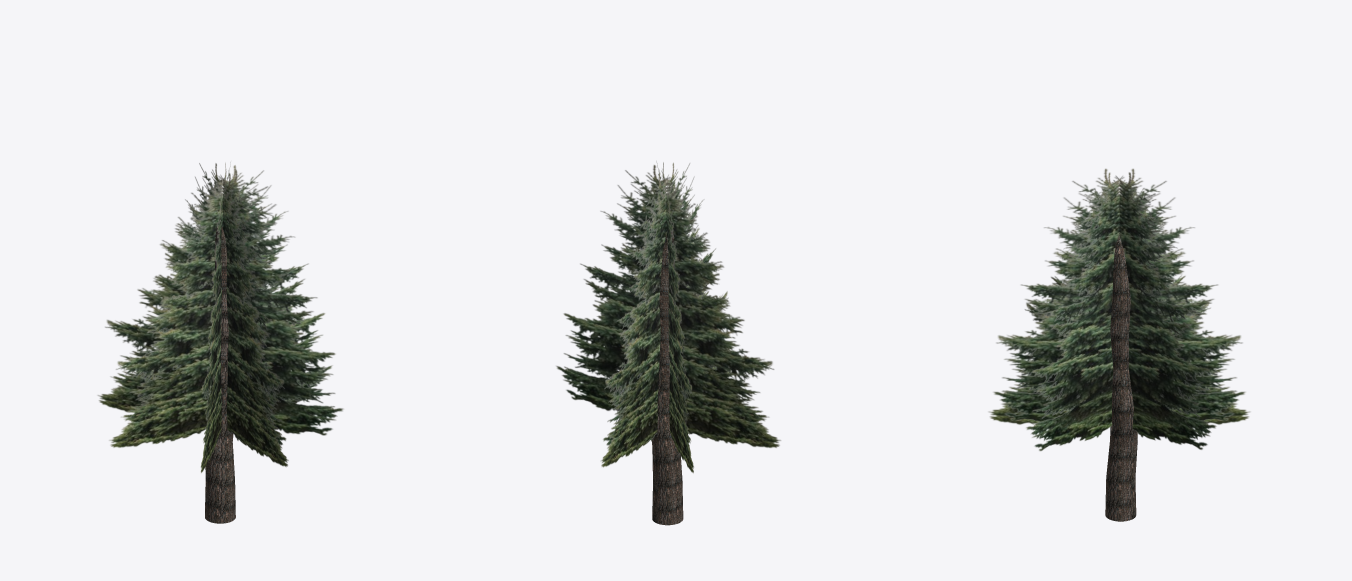
The model's file is pine tree.glb.
3 renders of one model, left to right at view 1: azimuth 30°, elevation 25°; view 2: azimuth 150°, elevation 25°; view 3: azimuth 270°, elevation 25°, orthographic.
Parts seen in each view (by area): view 1: pine tree1284922901-612x612-removebg-preview.002, pine tree1284922901-612x612-removebg-preview.003, pine tree1284922901-612x612-removebg-preview, Circle, pine tree1284922901-612x612-removebg-preview.001, pine tree1284922901-612x612-removebg-preview.004; view 2: pine tree1284922901-612x612-removebg-preview.002, pine tree1284922901-612x612-removebg-preview.004, Circle, pine tree1284922901-612x612-removebg-preview.003, pine tree1284922901-612x612-removebg-preview; view 3: pine tree1284922901-612x612-removebg-preview.001, pine tree1284922901-612x612-removebg-preview.003, pine tree1284922901-612x612-removebg-preview.004, pine tree1284922901-612x612-removebg-preview, Circle.
Part boxes in pixels (<box>): pine tree1284922901-612x612-removebg-preview.002: <box>109,165,332,447</box>; pine tree1284922901-612x612-removebg-preview.003: <box>97,170,343,435</box>; pine tree1284922901-612x612-removebg-preview: <box>185,163,288,466</box>; Circle: <box>205,226,235,523</box>; pine tree1284922901-612x612-removebg-preview.001: <box>200,162,232,472</box>; pine tree1284922901-612x612-removebg-preview.004: <box>191,173,286,447</box>; pine tree1284922901-612x612-removebg-preview.002: <box>556,165,780,447</box>; pine tree1284922901-612x612-removebg-preview.004: <box>600,162,716,467</box>; Circle: <box>651,230,683,525</box>; pine tree1284922901-612x612-removebg-preview.003: <box>656,161,693,473</box>; pine tree1284922901-612x612-removebg-preview: <box>603,173,730,448</box>; pine tree1284922901-612x612-removebg-preview.001: <box>1020,172,1216,449</box>; pine tree1284922901-612x612-removebg-preview.003: <box>1026,172,1213,451</box>; pine tree1284922901-612x612-removebg-preview.004: <box>993,168,1250,424</box>; pine tree1284922901-612x612-removebg-preview: <box>988,168,1245,424</box>; Circle: <box>1105,235,1137,521</box>.
Size of what is drawn, in the model's own units: 10.97 by 11.36 by 10.97.
2 materials, 2 textured.
